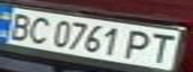0: (48, 17, 72, 48)
1: (100, 25, 127, 57)
6: (81, 22, 106, 54)
7: (66, 20, 87, 52)
B: (0, 10, 36, 40)
C: (21, 15, 54, 45)
P: (124, 27, 160, 61)
T: (145, 30, 181, 64)
